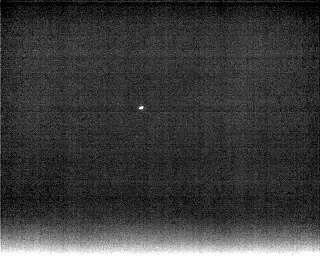BIRD: (137, 103, 146, 112)
